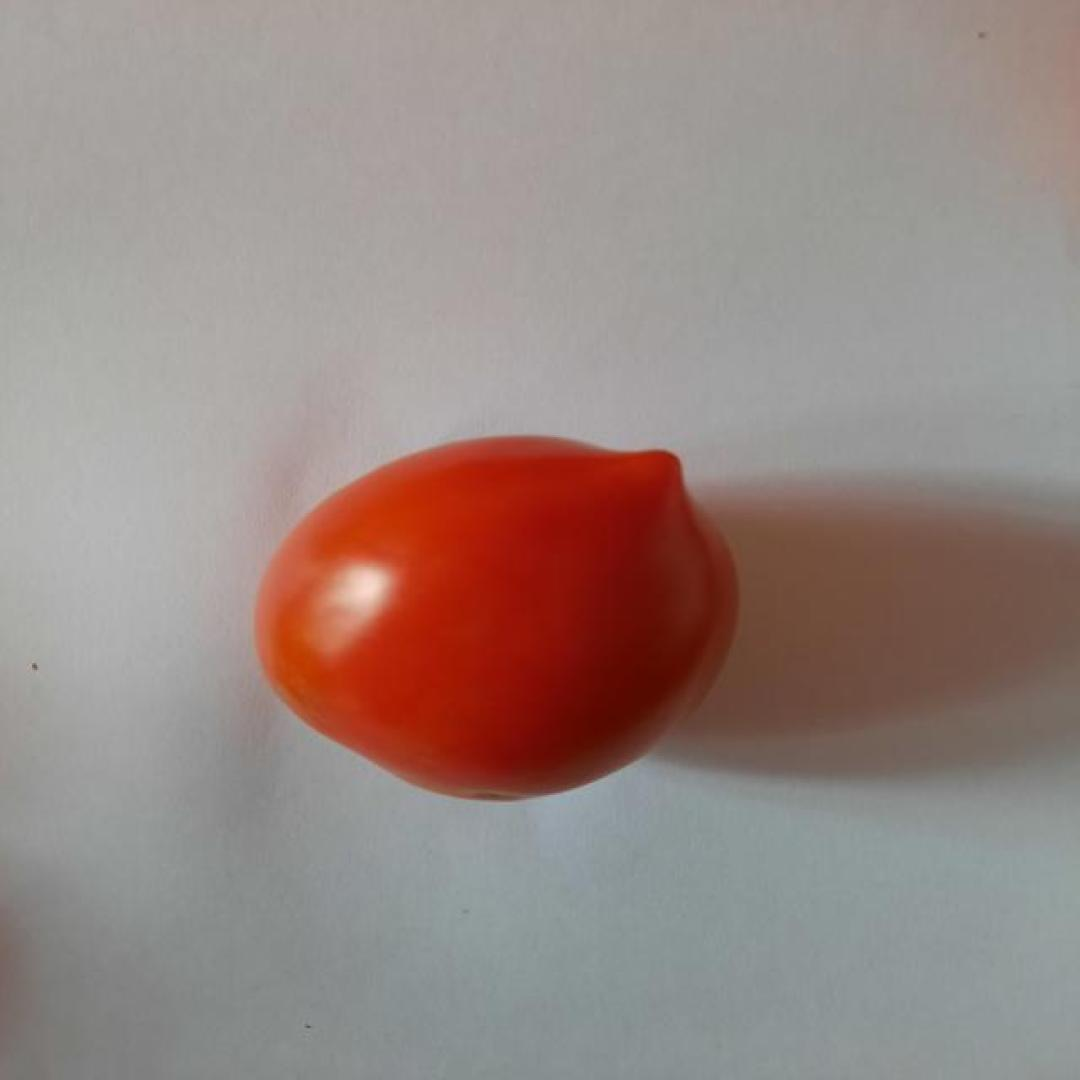matang: (248, 431, 744, 804)
